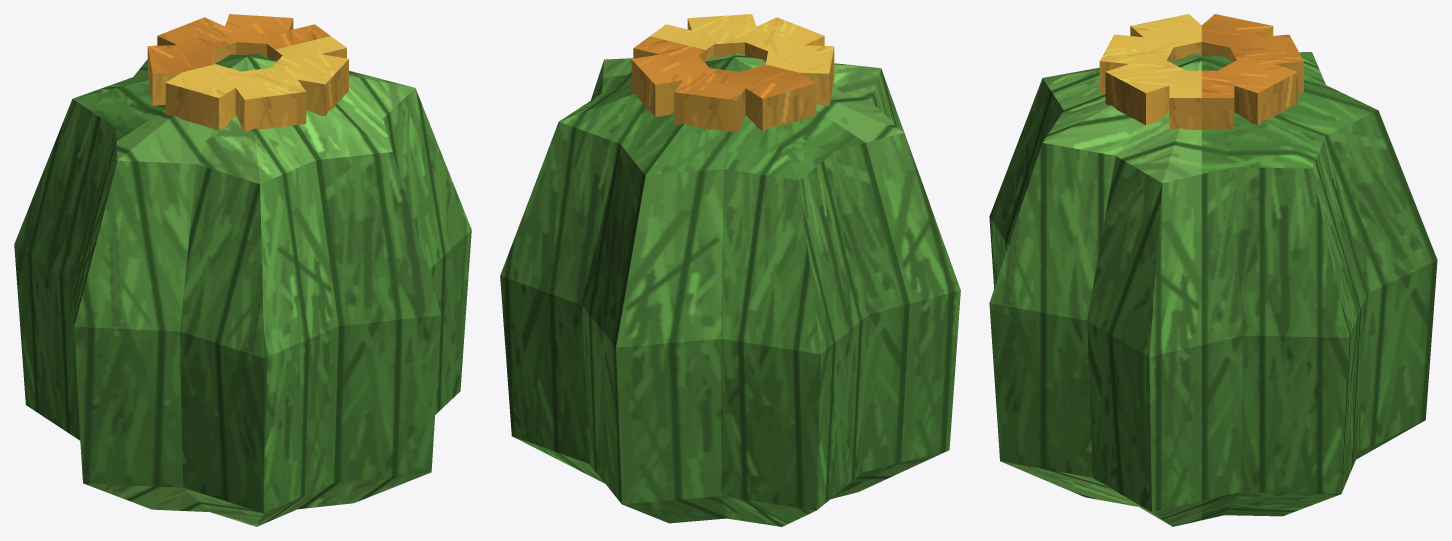
The model's file is cactus_barril.glb.
3 views of the same model, side by side, from view 1: azimuth 30°, elevation 25°; view 2: azimuth 150°, elevation 25°; view 3: azimuth 270°, elevation 25° (orthographic).
Parts seen in each view (by area): view 1: CactusBarril_cuerpo; view 2: CactusBarril_cuerpo; view 3: CactusBarril_cuerpo.
Boxes of the visible parts, <box> form: CactusBarril_cuerpo: <box>14,14,471,526</box>; CactusBarril_cuerpo: <box>500,14,960,526</box>; CactusBarril_cuerpo: <box>989,14,1437,526</box>.
Size of the model in its own units: 3.9 by 3.9 by 3.8.
2 materials, 2 textured.
